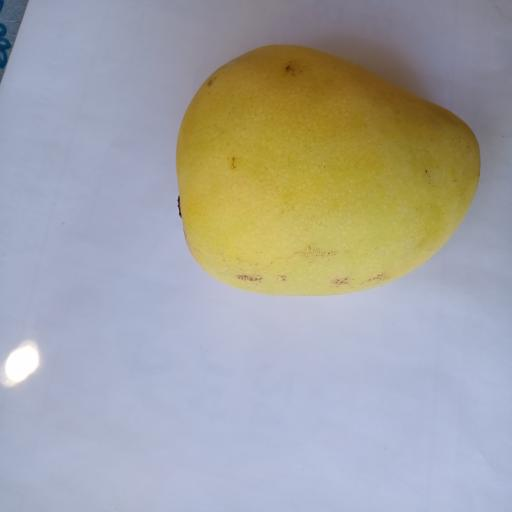mango-ripe: (150, 22, 483, 313)
